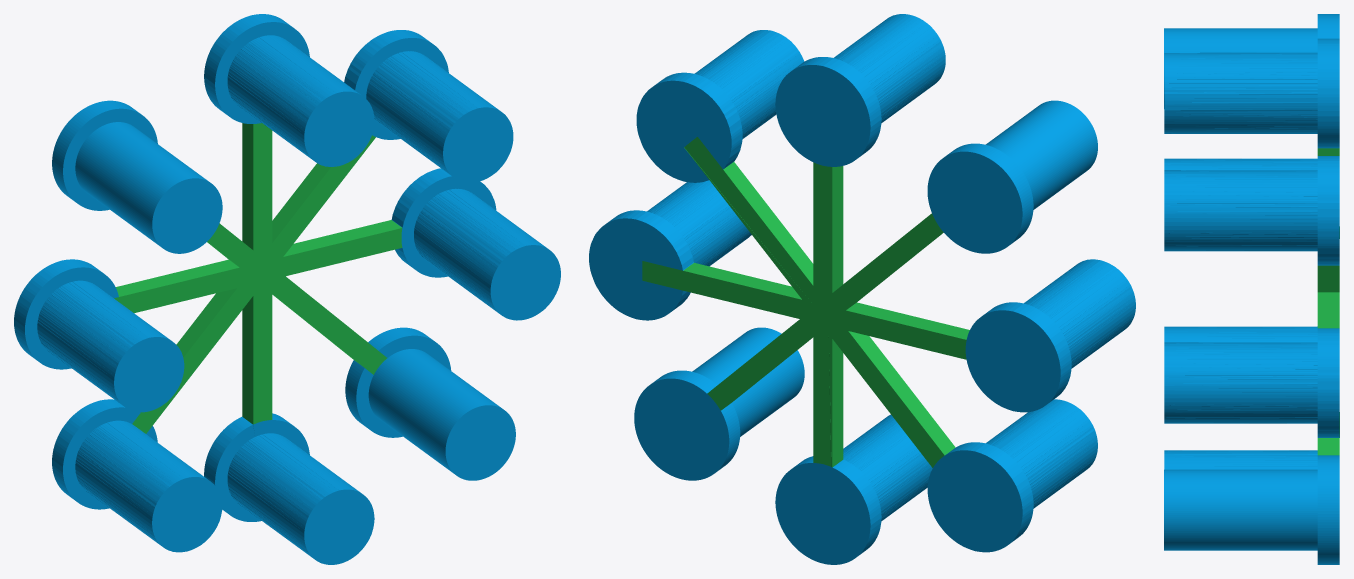
File: button.obj
3 views of the same model, side by side, from view 1: azimuth 30°, elevation 25°; view 2: azimuth 150°, elevation 25°; view 3: azimuth 270°, elevation 25° (orthographic).
Parts seen in each view (by area): view 1: Object.1; view 2: Object.1; view 3: Object.1.
Part boxes in pixels (bbox=[...]): Object.1: bbox=[14, 14, 560, 564]; Object.1: bbox=[589, 14, 1135, 564]; Object.1: bbox=[1164, 14, 1339, 564].
Size of the model in its own units: 24.8 by 25 by 8.01.
